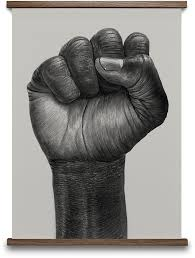fist: (30, 41, 165, 160)
